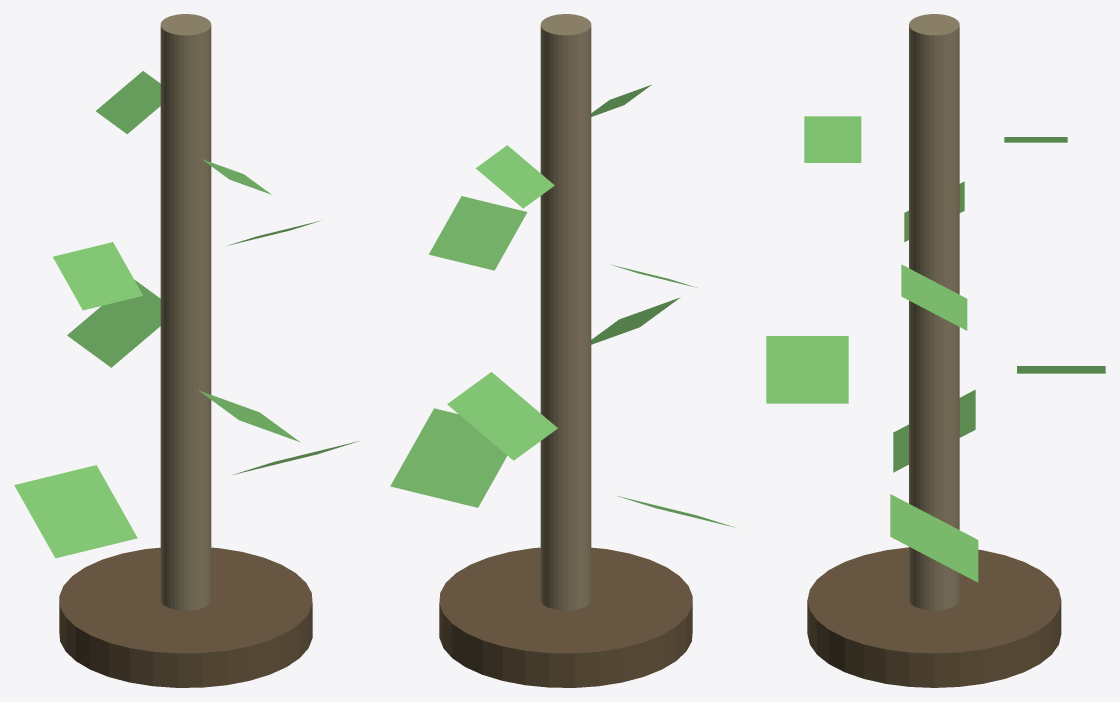
Rendered from plant_vegetative_morphs.glb.
3 renders of one model, left to right at view 1: azimuth 30°, elevation 25°; view 2: azimuth 150°, elevation 25°; view 3: azimuth 270°, elevation 25°, orthographic.
Visible parts, largest first — view 1: MainStem, Soil, Leaf_1, Leaf_2, Leaf_5, Leaf_6, Leaf_3; view 2: MainStem, Soil, Leaf_0, Leaf_2, Leaf_4, Leaf_6, Leaf_3; view 3: Soil, MainStem, Leaf_3, Leaf_0, Leaf_7, Leaf_4, Leaf_1, Leaf_2.
Part boxes in pixels (x1,y1,x2,y2): MainStem: (160, 14, 211, 610); Soil: (59, 547, 312, 687); Leaf_1: (14, 465, 137, 558); Leaf_2: (67, 279, 160, 367); Leaf_5: (53, 242, 142, 310); Leaf_6: (96, 71, 160, 133); Leaf_3: (198, 390, 300, 442); MainStem: (540, 14, 591, 610); Soil: (439, 547, 692, 687); Leaf_0: (390, 408, 507, 507); Leaf_2: (447, 372, 557, 460); Leaf_4: (429, 196, 527, 270); Leaf_6: (476, 145, 554, 208); Leaf_3: (591, 297, 680, 344); Soil: (807, 547, 1061, 687); MainStem: (909, 14, 959, 610); Leaf_3: (766, 336, 848, 403); Leaf_0: (890, 494, 978, 582); Leaf_7: (804, 116, 861, 162); Leaf_4: (901, 264, 967, 330); Leaf_1: (893, 389, 975, 472); Leaf_2: (1017, 366, 1105, 373).
Bounding box in the file's own units: 0.2775 × 0.53 × 0.2675.
